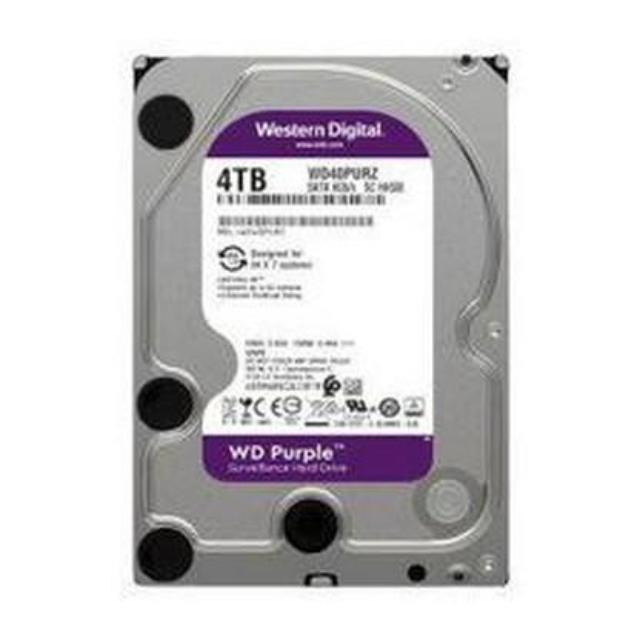DISK: (128, 53, 512, 582)
